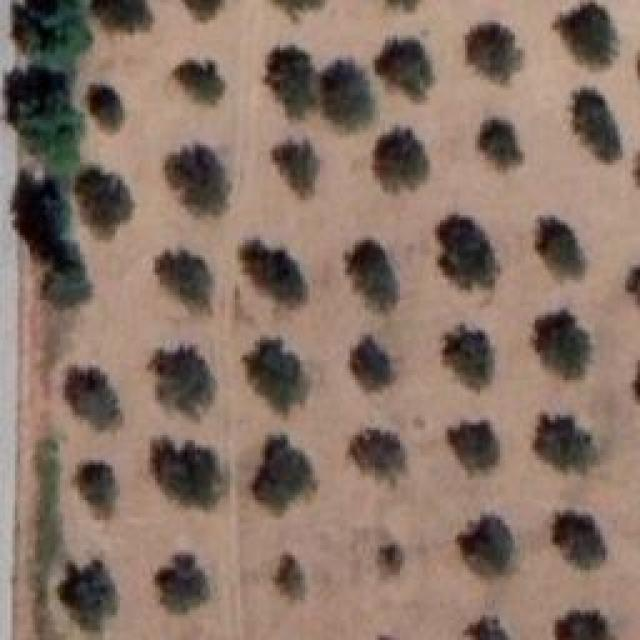Tree: (5, 65, 84, 176), (148, 345, 217, 420), (15, 3, 93, 69), (153, 438, 224, 510), (165, 143, 233, 216), (243, 337, 308, 412), (253, 435, 317, 511), (438, 215, 501, 290), (240, 240, 309, 303), (15, 170, 70, 249), (75, 165, 134, 238), (553, 2, 618, 67), (60, 560, 116, 630), (345, 240, 399, 312), (268, 43, 321, 116), (323, 60, 377, 131), (538, 310, 592, 380), (573, 87, 623, 162), (378, 35, 437, 98), (458, 515, 517, 577), (65, 368, 123, 431), (373, 128, 429, 193), (155, 250, 213, 310), (40, 245, 98, 305), (465, 23, 521, 84), (350, 428, 408, 486), (538, 415, 598, 471), (155, 552, 210, 612), (445, 325, 494, 392), (538, 218, 588, 279), (553, 513, 607, 569), (273, 140, 319, 200), (448, 420, 501, 472), (350, 335, 395, 391), (75, 464, 119, 518), (478, 120, 524, 171), (175, 60, 226, 103), (93, 0, 154, 32), (555, 610, 610, 640), (90, 85, 123, 131), (275, 553, 306, 599), (273, 0, 326, 20), (465, 617, 510, 640), (185, 0, 223, 21), (380, 543, 402, 575), (625, 265, 640, 305), (385, 0, 423, 12)
